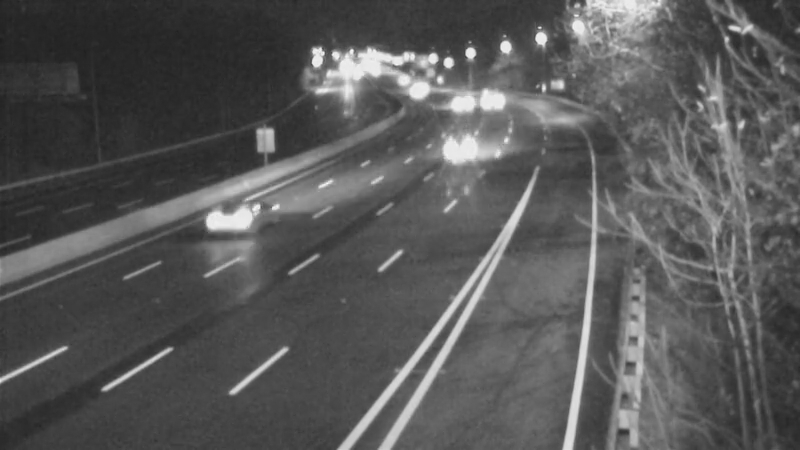vehicle: (424, 113, 504, 193), (195, 174, 275, 254), (391, 66, 441, 116), (434, 72, 484, 122), (468, 69, 518, 119)
